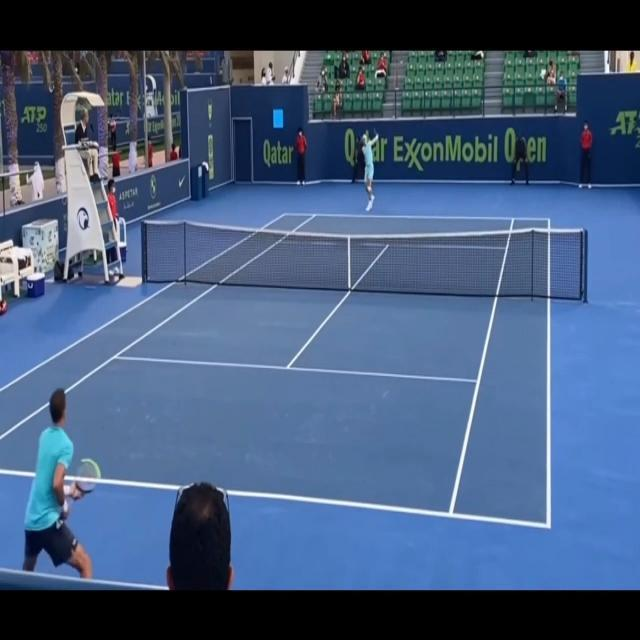court: (0, 212, 552, 529)
net: (140, 215, 589, 296)
player: (21, 387, 100, 585)
